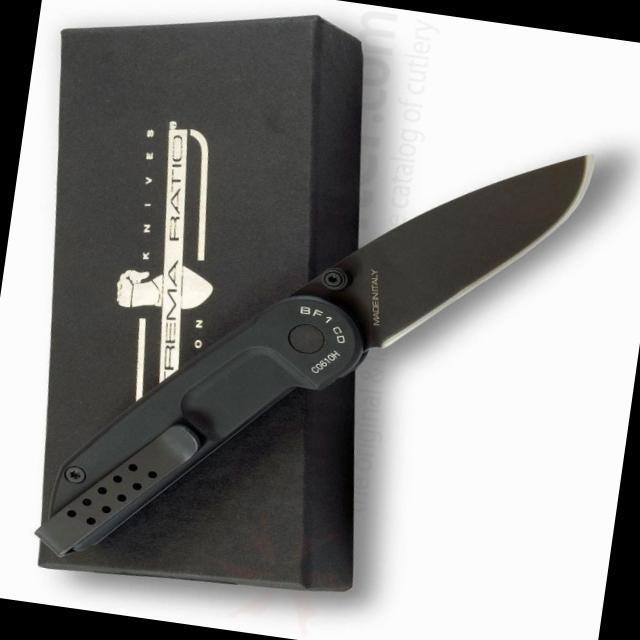knife: (274, 104, 610, 416)
